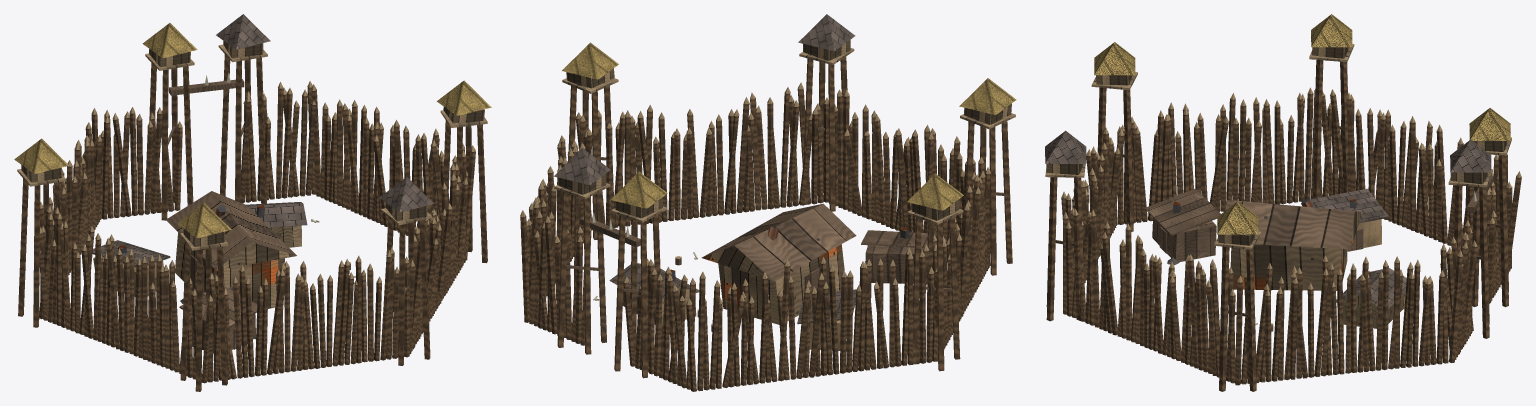
File: cm_goblin_fort.glb
3 views of the same model, side by side, from view 1: azimuth 30°, elevation 25°; view 2: azimuth 150°, elevation 25°; view 3: azimuth 270°, elevation 25° (orthographic). The views are drawn at different scales.
Parts seen in each view (by area): view 1: cm_goblin_fort; view 2: cm_goblin_fort; view 3: cm_goblin_fort.
Part boxes in pixels (box(x1,y1,x2,y2)): cm_goblin_fort: box(14, 14, 491, 391); cm_goblin_fort: box(520, 14, 1016, 391); cm_goblin_fort: box(1045, 14, 1521, 391).
Bounding box in the file's own units: 2.52 × 1.09 × 2.46.
Materials: 1 (1 with a texture image).
